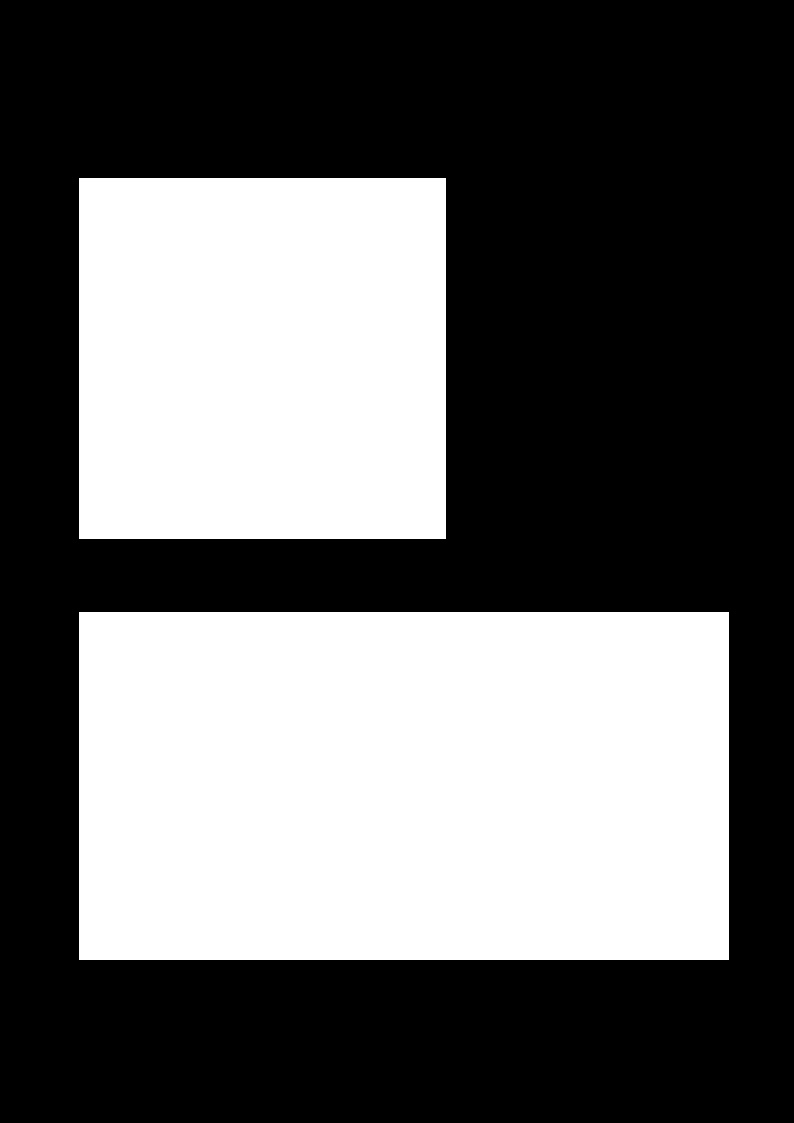table: (79, 612, 728, 959), (79, 178, 445, 538)
